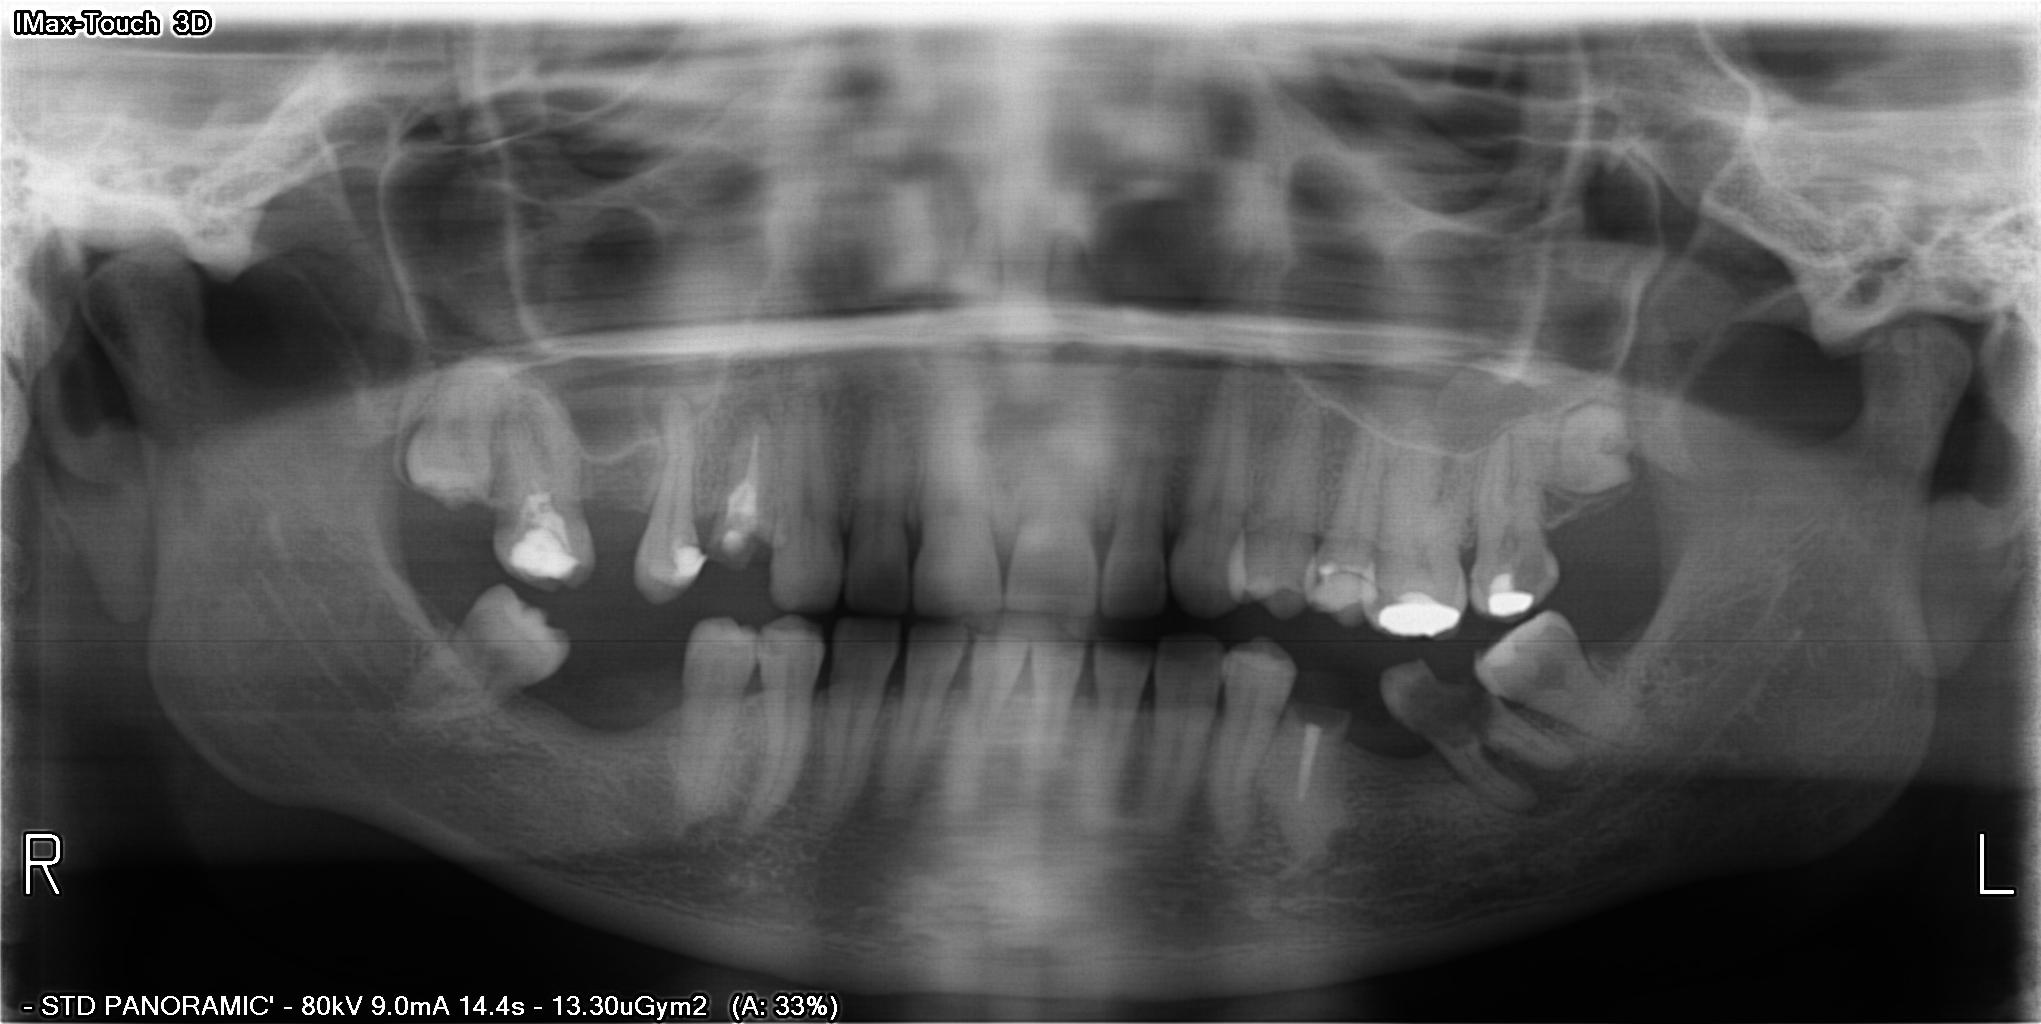Çürük: (504, 505, 581, 580), (1380, 589, 1459, 640), (723, 475, 757, 554), (1487, 596, 1543, 620), (678, 547, 710, 585), (1490, 566, 1516, 597)
Çürük Bölgesi: (1513, 552, 1555, 590)
